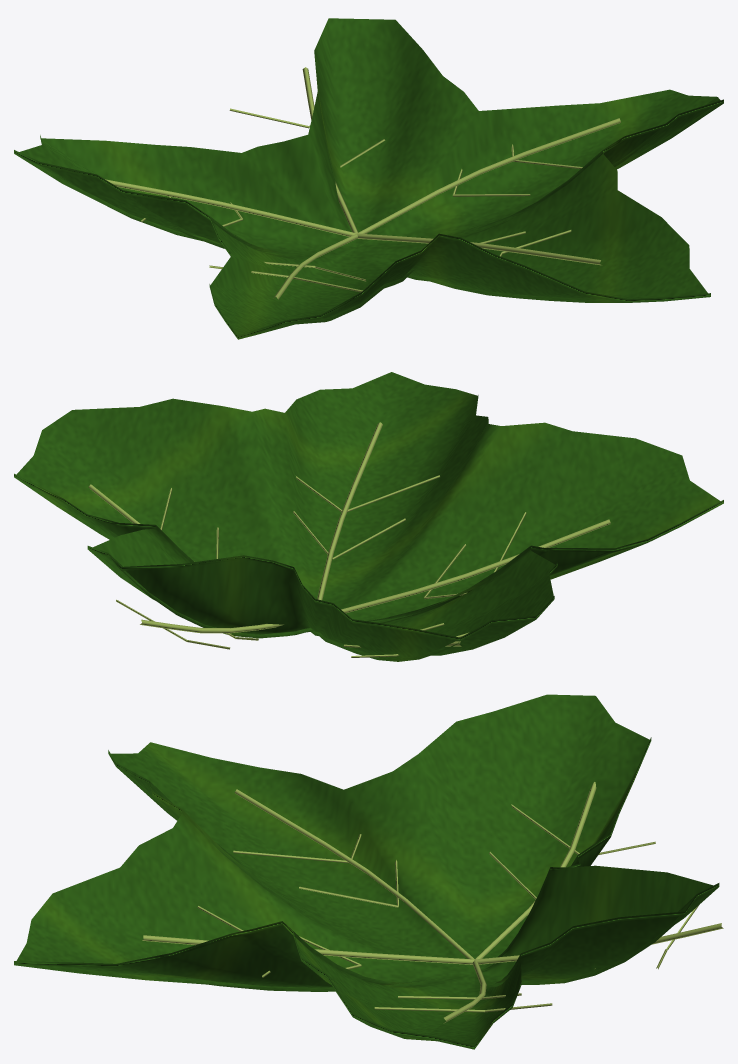
File: leaf-green.glb
3 views of the same model, one above another, from view 1: azimuth 30°, elevation 25°; view 2: azimuth 150°, elevation 25°; view 3: azimuth 270°, elevation 25° (orthographic). The views are drawn at different scales.
Size of the model in its own units: 0.6361 by 0.1289 by 0.6044.
Materials: 2 (1 with a texture image).
